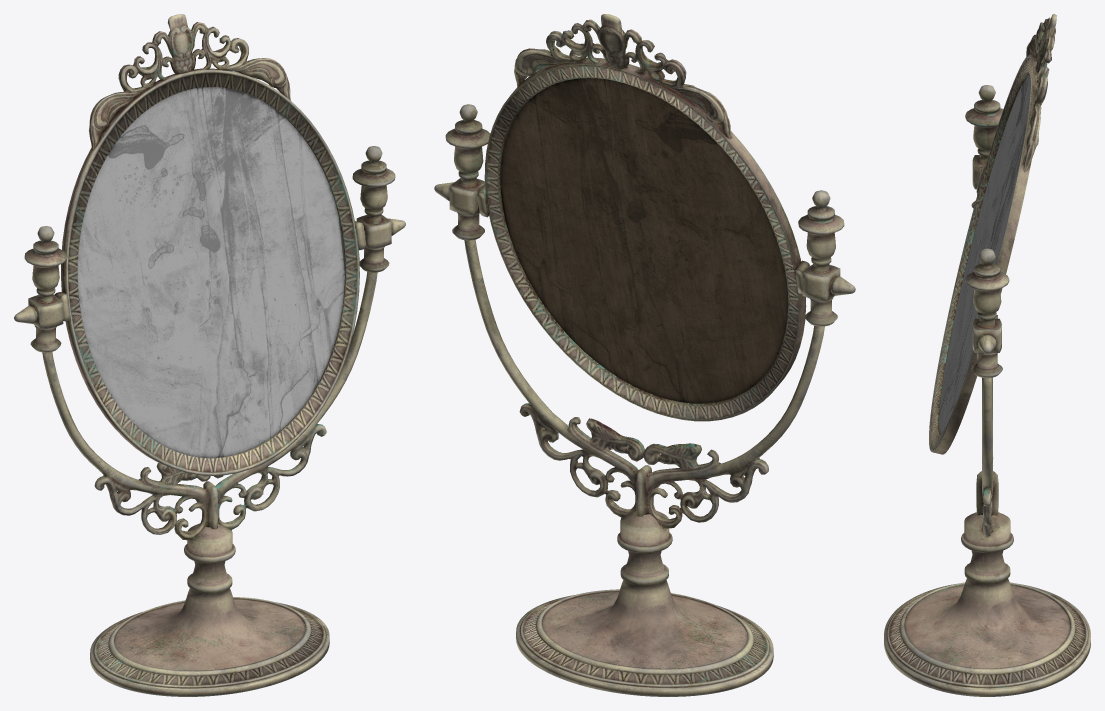
Rendered from weathered_antique_table_mirror_-_game_model.glb.
3 views of the same model, side by side, from view 1: azimuth 30°, elevation 25°; view 2: azimuth 150°, elevation 25°; view 3: azimuth 270°, elevation 25° (orthographic). The views are drawn at different scales.
Visible parts, largest first — view 1: layer2_lp.001; view 2: layer2_lp.001; view 3: layer2_lp.001.
Boxes of the visible parts, box(x1,y1,x2,y2) form: layer2_lp.001: box(14, 14, 405, 696); layer2_lp.001: box(434, 14, 855, 696); layer2_lp.001: box(884, 14, 1090, 696).
Size of the model in its own units: 0.4487 by 0.6741 by 0.2018.
1 material, 1 textured.
